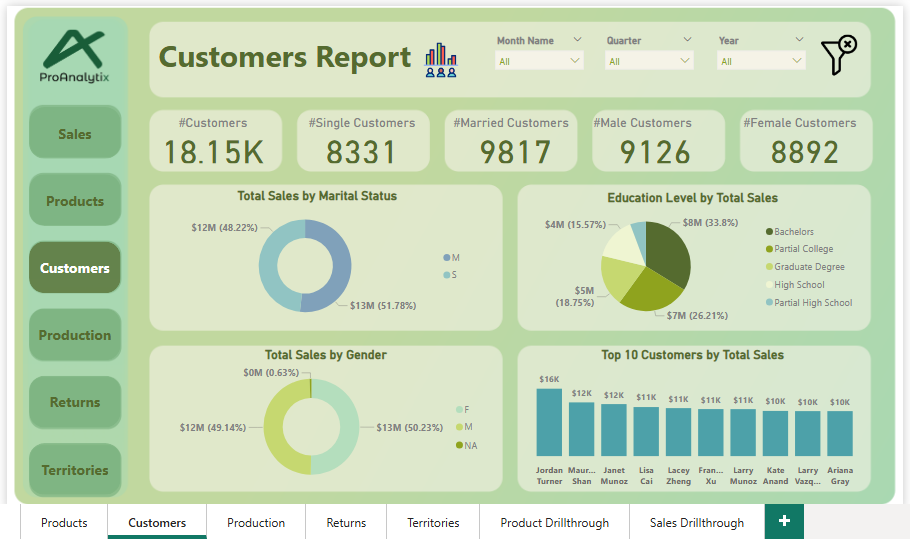

What the dashboard file says about the page in this screenshot:
{"tool":"powerbi","page":{"name":"Customers","canvas":[1280,720],"ordinal":2},"visuals":[{"type":"card","title":"#Customers","fields":{"Values":["_Measures 1.Number of Customers"]},"box":[201.3,155.9,185.7,73.7],"z":0},{"type":"card","title":"#Single Customers","fields":{"Values":["_Measures 1.#Single Customers"]},"box":[413.9,155.9,185.7,73.7],"z":1000},{"type":"card","title":"#Married Customers","fields":{"Values":["_Measures 1.#Married Customers"]},"box":[633.5,155.9,185.7,73.7],"z":2000},{"type":"card","title":"#Male Customers","fields":{"Values":["_Measures 1.#Male customers"]},"box":[833.4,155.9,185.7,73.7],"z":3000},{"type":"card","title":"#Female Customers","fields":{"Values":["_Measures 1.#Female Customers"]},"box":[1047.4,155.9,185.7,73.7],"z":4000},{"type":"columnChart","title":"Top 10 Customers by Total Sales","fields":{"Category":["Customers.Customer Name"],"Y":["_Measures 1.Total Sales Amount"]},"box":[727.8,486.6,505.2,206.9],"z":5000},{"type":"donutChart","title":"Total Sales by Gender","fields":{"Y":["_Measures 1.Total Sales Amount"],"Category":["Customers.Gender"]},"box":[224,486.6,462.3,206.9],"z":6000},{"type":"pieChart","title":" Education Level  by Total Sales ","fields":{"Category":["Customers.Education Level"],"Y":["_Measures 1.Total Sales Amount"]},"box":[737.7,262.6,485.2,196.9],"z":7000},{"type":"donutChart","title":"Total Sales by Marital Status","fields":{"Category":["Customers.MaritalStatus"],"Y":["_Measures 1.Total Sales Amount"]},"box":[224,259.7,438.1,201.2],"z":8000},{"type":"slicer","fields":{"Values":["Calendar.Year"]},"box":[1004.3,35,147.1,92.9],"z":9000},{"type":"slicer","fields":{"Values":["Calendar.Quarter"]},"box":[844.3,35,147.1,92.9],"z":10000},{"type":"slicer","fields":{"Values":["Calendar.Month Name"]},"box":[687.1,35,147.1,92.9],"z":11000},{"type":"pageNavigator","box":[31,144.3,131,556],"z":12000},{"type":"image","box":[29.8,28.3,131.8,87.9],"z":13000},{"type":"image","box":[1153.7,35.4,69.4,69.4],"z":15000},{"type":"image","box":[589.6,46.8,59.5,59.5],"z":16000},{"type":"textbox","box":[211.4,35.7,378.6,81.4],"z":17000}]}

Visuals, with their boxes on the page's 1280x720 design canvas (x1, y1, x2, y2). These are canvas units, not pixel positions in the 910x539 screenshot, which may show the page scaled, cropped or inside an application window:
"#Customers" card: x1=201 y1=156 x2=387 y2=230
"#Single Customers" card: x1=414 y1=156 x2=600 y2=230
"#Married Customers" card: x1=634 y1=156 x2=819 y2=230
"#Male Customers" card: x1=833 y1=156 x2=1019 y2=230
"#Female Customers" card: x1=1047 y1=156 x2=1233 y2=230
"Top 10 Customers by Total Sales" columnChart: x1=728 y1=487 x2=1233 y2=694
"Total Sales by Gender" donutChart: x1=224 y1=487 x2=686 y2=694
" Education Level  by Total Sales " pieChart: x1=738 y1=263 x2=1223 y2=460
"Total Sales by Marital Status" donutChart: x1=224 y1=260 x2=662 y2=461
slicer - Calendar.Year: x1=1004 y1=35 x2=1151 y2=128
slicer - Calendar.Quarter: x1=844 y1=35 x2=991 y2=128
slicer - Calendar.Month Name: x1=687 y1=35 x2=834 y2=128
pageNavigator: x1=31 y1=144 x2=162 y2=700
image: x1=30 y1=28 x2=162 y2=116
image: x1=1154 y1=35 x2=1223 y2=105
image: x1=590 y1=47 x2=649 y2=106
textbox: x1=211 y1=36 x2=590 y2=117
